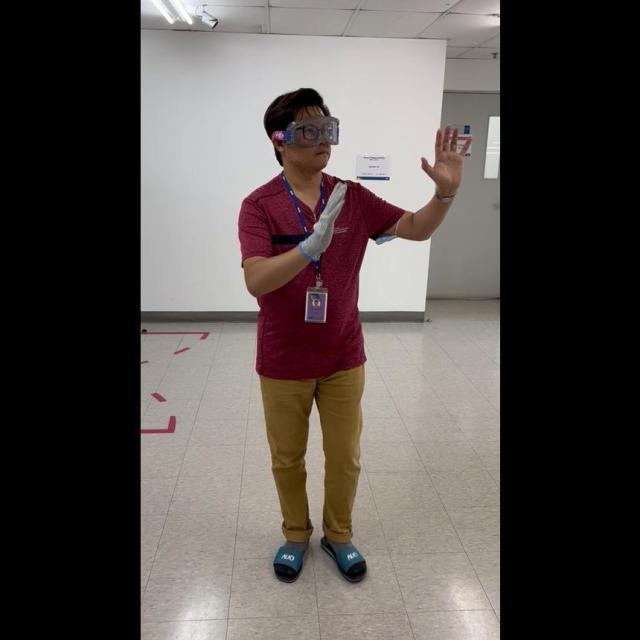bare_hand: (417, 118, 470, 199)
gloved_hand: (295, 176, 348, 257)
